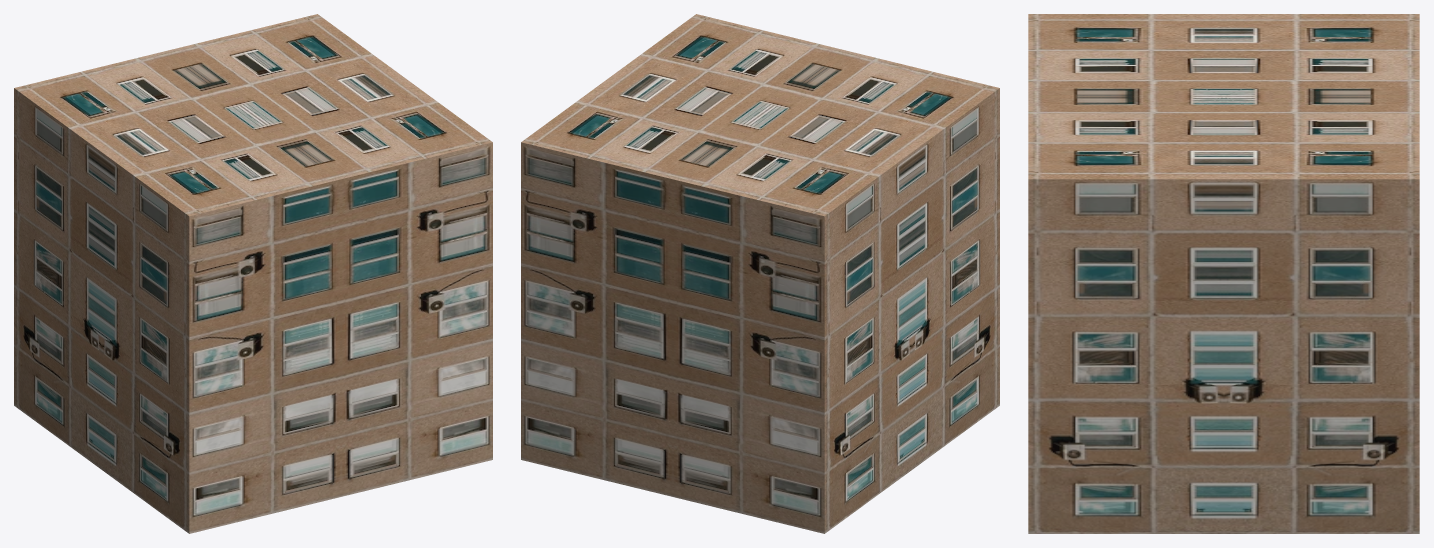
Rendered from kalman_edificio.dae.
3 views of the same model, side by side, from view 1: azimuth 30°, elevation 25°; view 2: azimuth 150°, elevation 25°; view 3: azimuth 270°, elevation 25° (orthographic). The views are drawn at different scales.
Parts seen in each view (by area): view 1: Conveyor_Box; view 2: Conveyor_Box; view 3: Conveyor_Box.
Boxes of the visible parts, box(x1,y1,x2,y2) form: Conveyor_Box: box(14, 14, 492, 533); Conveyor_Box: box(521, 14, 999, 533); Conveyor_Box: box(1028, 14, 1419, 533).
Bounding box in the file's own units: 397 × 397 × 397.
